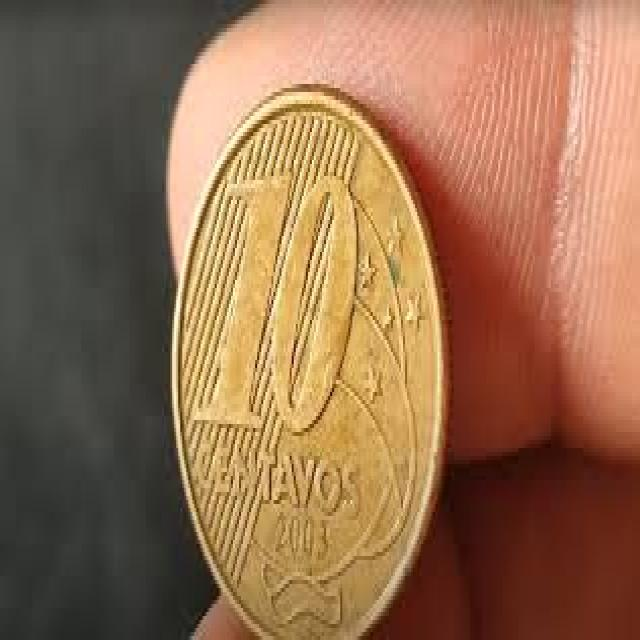10 cent: (176, 82, 424, 602)
